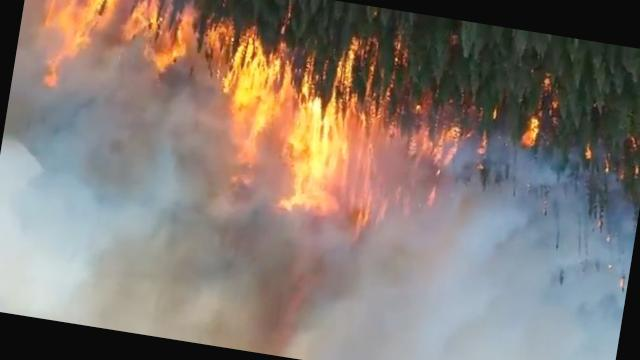fire: (215, 27, 470, 229), (34, 0, 207, 105)
smoke: (0, 92, 637, 360), (522, 106, 548, 151)
